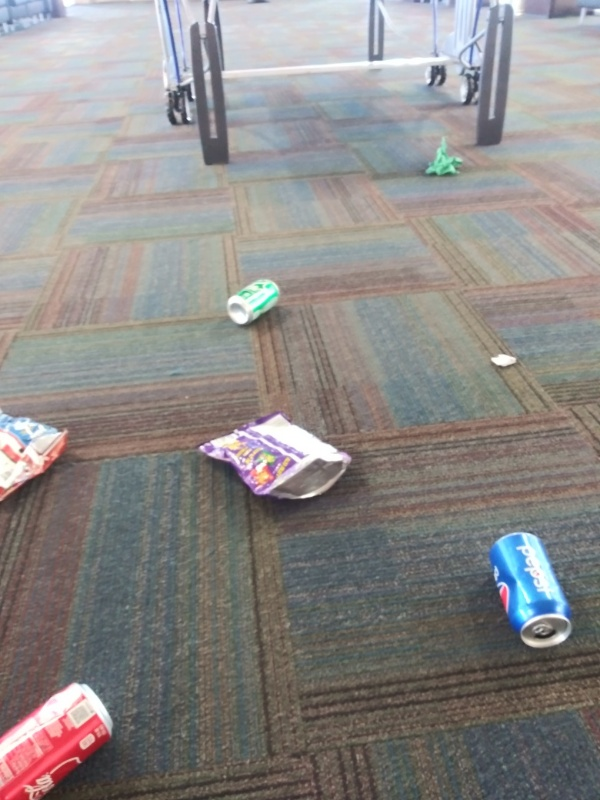bag: (191, 409, 353, 512), (1, 398, 71, 512)
can: (1, 675, 118, 799), (486, 527, 577, 653), (220, 276, 282, 329)
